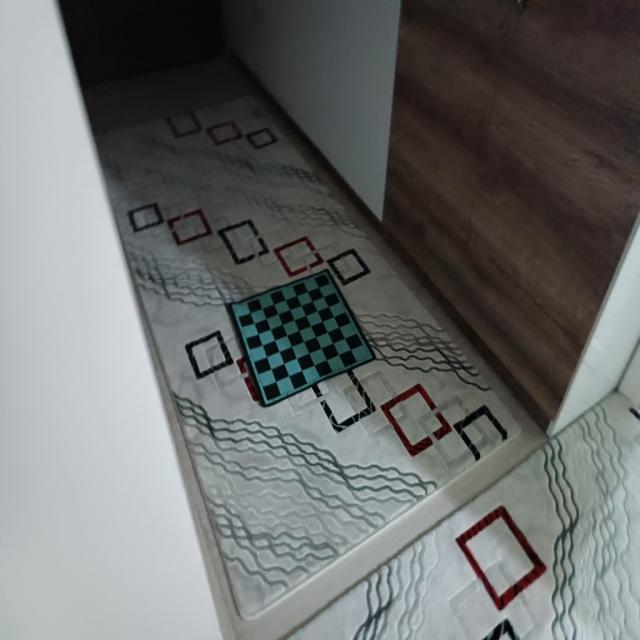corner: (364, 350, 374, 364), (322, 267, 332, 280), (229, 301, 238, 313), (263, 398, 270, 405)
